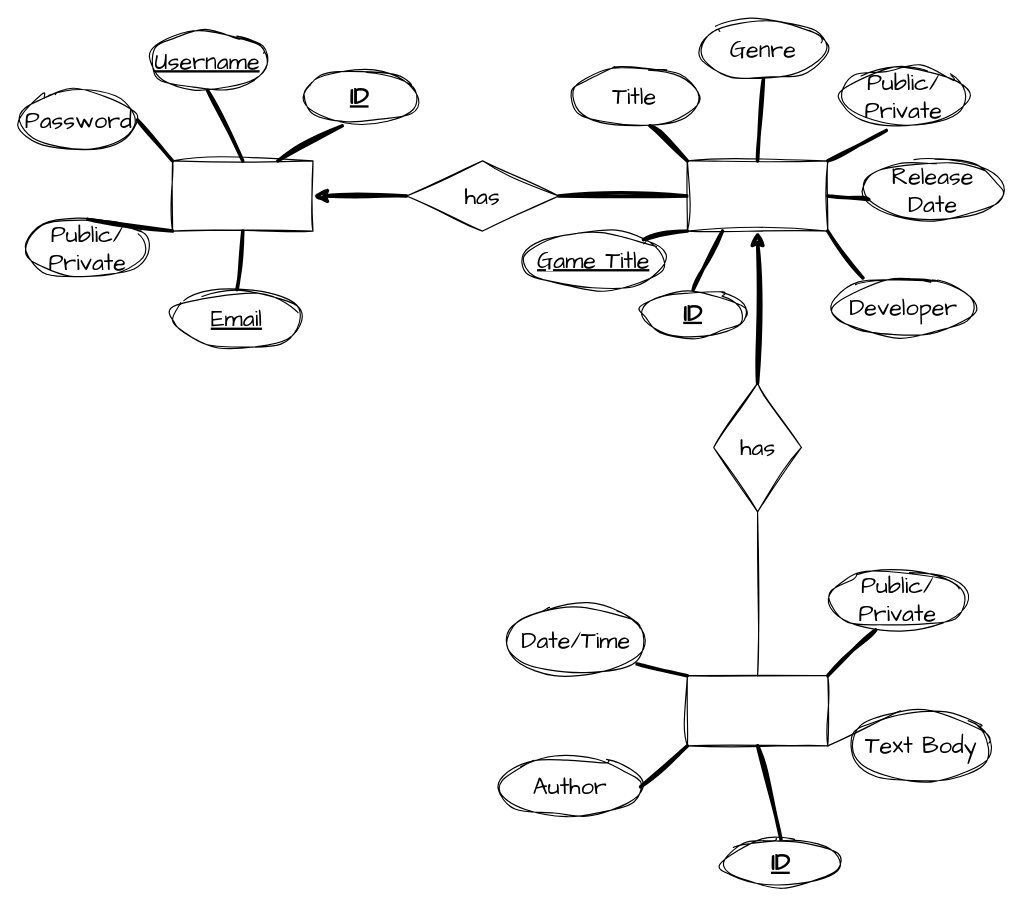
This 1024x907 diagram has some shape labels left out. The shapes that lost their labels are listed below. From the top down, each one's centre as x and y in pixels, then its label:
point (242, 195): Users
point (757, 195): Lists
point (757, 710): Comments
